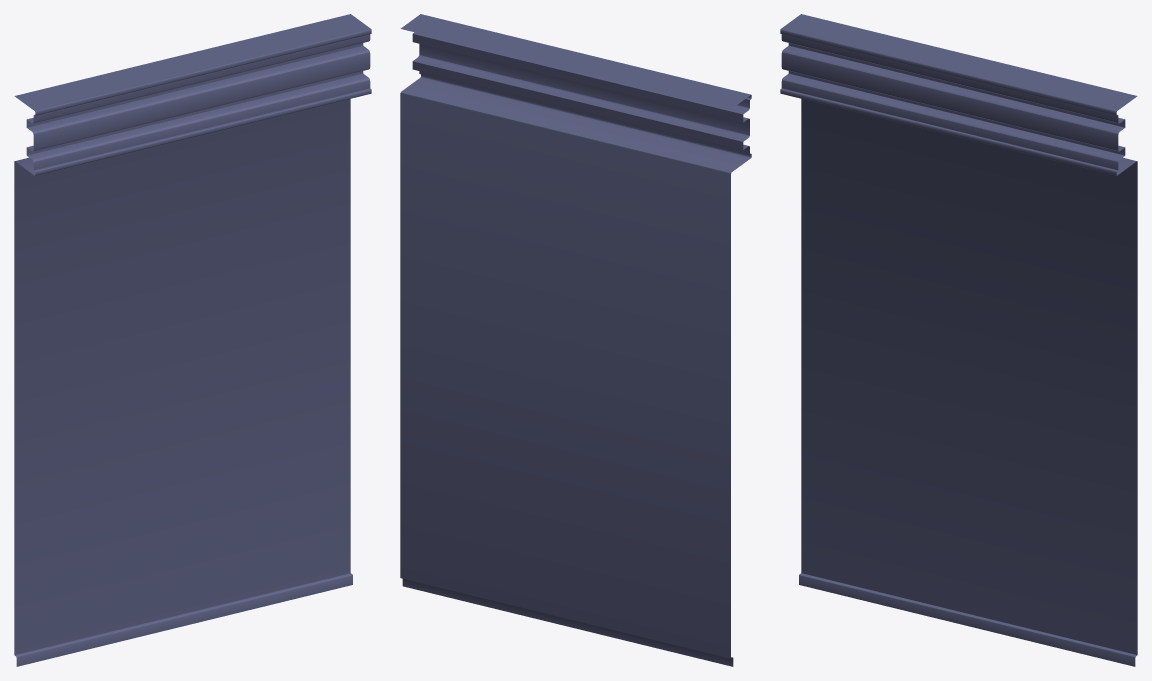
File: GS_Ext_Side_Wall.fbx
The picture shows the model from 3 angles, left to right: view 1: azimuth 30°, elevation 25°; view 2: azimuth 150°, elevation 25°; view 3: azimuth 330°, elevation 25°; orthographic projection.
Visible parts, largest first — view 1: GS_Ext_Side_Wall; view 2: GS_Ext_Side_Wall; view 3: GS_Ext_Side_Wall.
Part boxes in pixels (x1,y1,x2,y2): GS_Ext_Side_Wall: [14, 14, 371, 666]; GS_Ext_Side_Wall: [400, 14, 751, 666]; GS_Ext_Side_Wall: [780, 14, 1137, 666].
Bounding box in the file's own units: 250 × 404 × 27.
